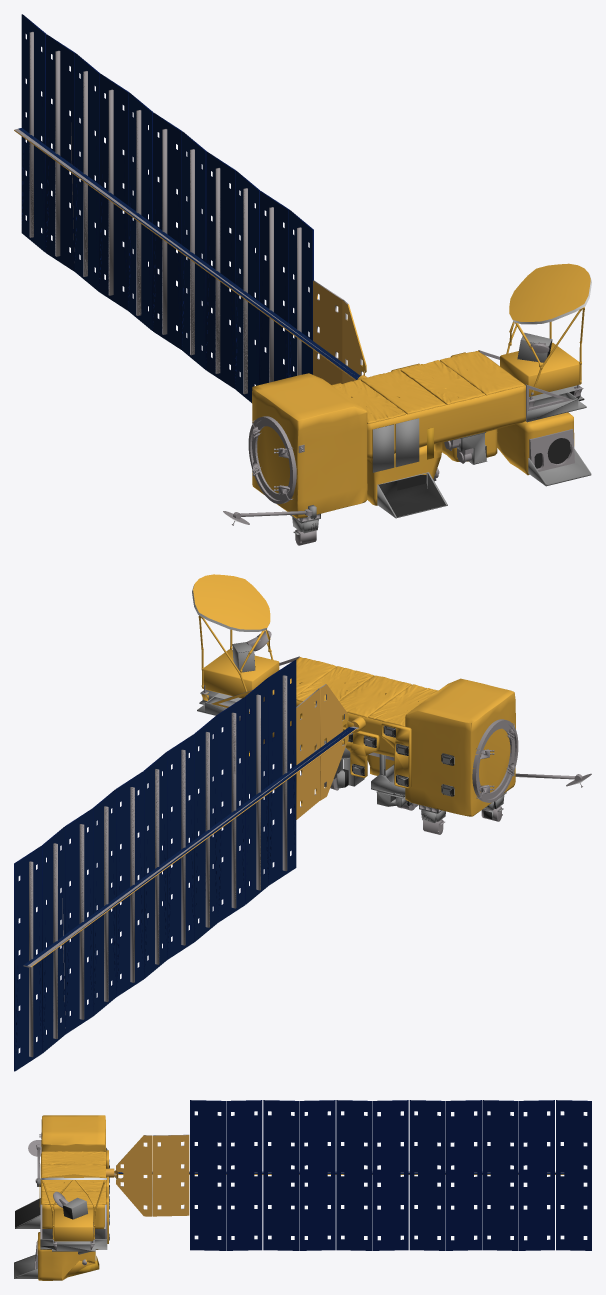
Rendered from aqua_notext.glb.
The picture shows the model from 3 angles, top to bottom: view 1: azimuth 30°, elevation 25°; view 2: azimuth 150°, elevation 25°; view 3: azimuth 270°, elevation 25°; orthographic projection. The views are drawn at different scales.
Parts seen in each view (by area): view 1: tex_01, foil_gold, foil_silver, gold_2, shiny_panel; view 2: tex_01, foil_gold, shiny_panel, gold_2, foil_silver; view 3: shiny_panel, tex_01, foil_gold, gold_2, foil_silver.
Part boxes in pixels (x1=…): tex_01: x1=14, y1=15, x2=591, y2=545; foil_gold: x1=252, y1=307, x2=584, y2=518; foil_silver: x1=290, y1=332, x2=591, y2=535; gold_2: x1=333, y1=351, x2=524, y2=423; shiny_panel: x1=21, y1=14, x2=313, y2=388; tex_01: x1=15, y1=574, x2=591, y2=1071; foil_gold: x1=198, y1=615, x2=515, y2=816; shiny_panel: x1=14, y1=660, x2=295, y2=1071; gold_2: x1=272, y1=657, x2=438, y2=726; foil_silver: x1=197, y1=642, x2=506, y2=822; shiny_panel: x1=190, y1=1100, x2=591, y2=1250; tex_01: x1=28, y1=1115, x2=586, y2=1269; foil_gold: x1=37, y1=1115, x2=108, y2=1280; gold_2: x1=41, y1=1151, x2=105, y2=1204; foil_silver: x1=14, y1=1148, x2=109, y2=1278.
Size of the model in its own units: 2.11 by 1.14 by 4.
